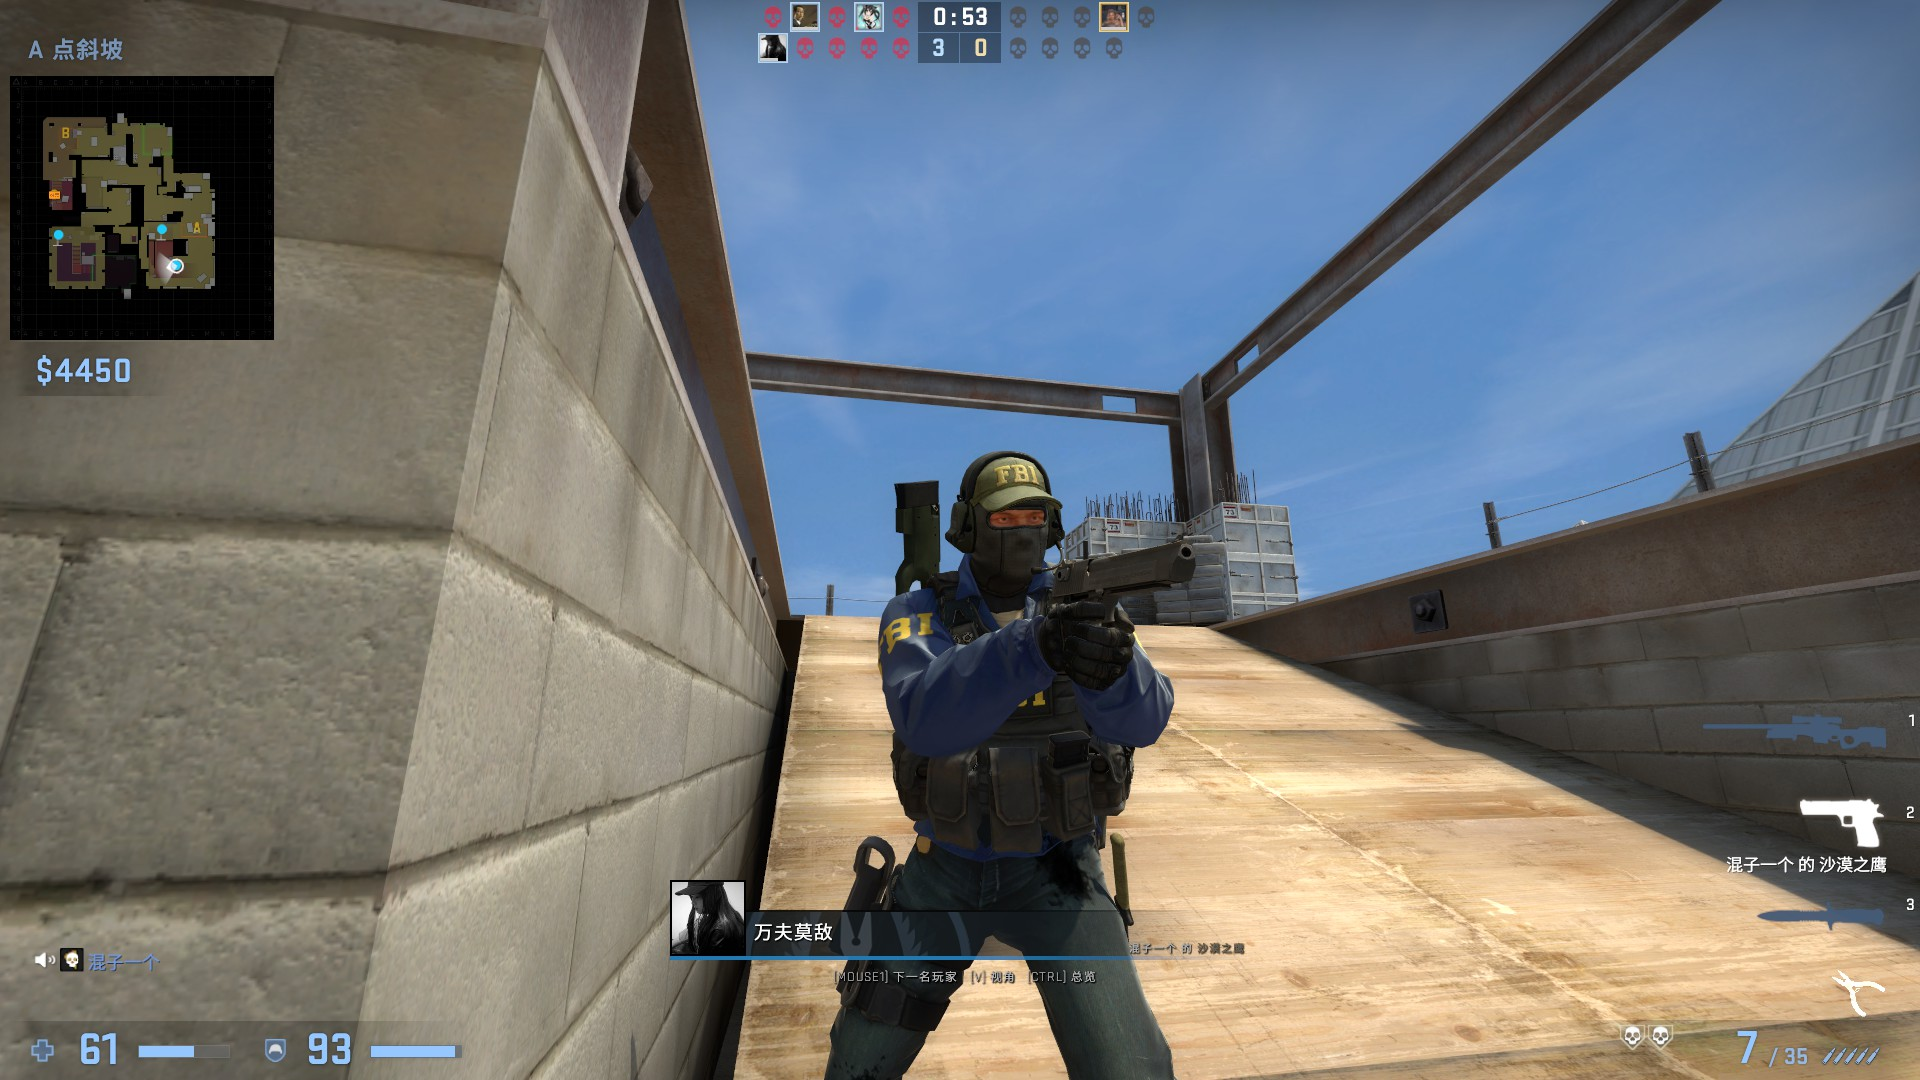head: (953, 448, 1065, 578)
